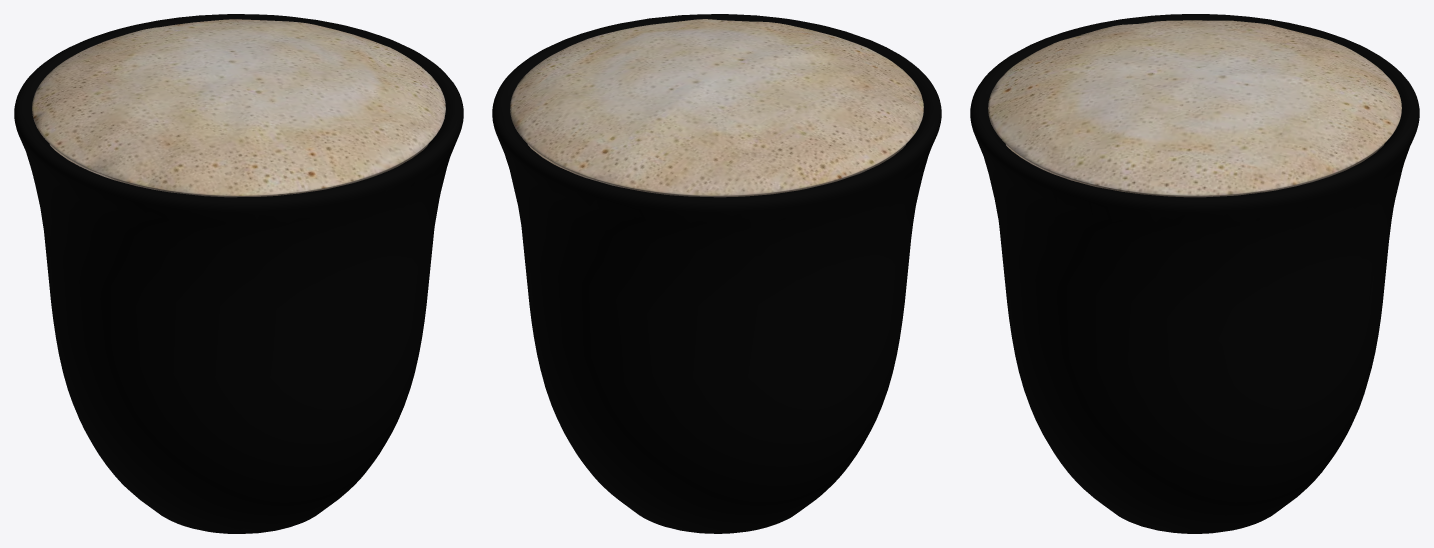
Rendered from glass-cup.glb.
The picture shows the model from 3 angles, left to right: view 1: azimuth 30°, elevation 25°; view 2: azimuth 150°, elevation 25°; view 3: azimuth 270°, elevation 25°; orthographic projection.
Parts seen in each view (by area): view 1: e8cd2753-a23c-425b-816a-000750a147a3, 02456bec-d0ef-455e-a964-d00a5c530fa4; view 2: e8cd2753-a23c-425b-816a-000750a147a3, 02456bec-d0ef-455e-a964-d00a5c530fa4; view 3: e8cd2753-a23c-425b-816a-000750a147a3, 02456bec-d0ef-455e-a964-d00a5c530fa4.
Boxes of the visible parts, left/top/right/bottom form: e8cd2753-a23c-425b-816a-000750a147a3: left=14, top=14, right=463, bottom=533; 02456bec-d0ef-455e-a964-d00a5c530fa4: left=32, top=19, right=445, bottom=197; e8cd2753-a23c-425b-816a-000750a147a3: left=492, top=14, right=941, bottom=533; 02456bec-d0ef-455e-a964-d00a5c530fa4: left=510, top=19, right=923, bottom=197; e8cd2753-a23c-425b-816a-000750a147a3: left=970, top=14, right=1419, bottom=533; 02456bec-d0ef-455e-a964-d00a5c530fa4: left=988, top=20, right=1401, bottom=197.
Bounding box in the file's own units: 10.38 × 10.87 × 10.38.
2 materials, 1 textured.
